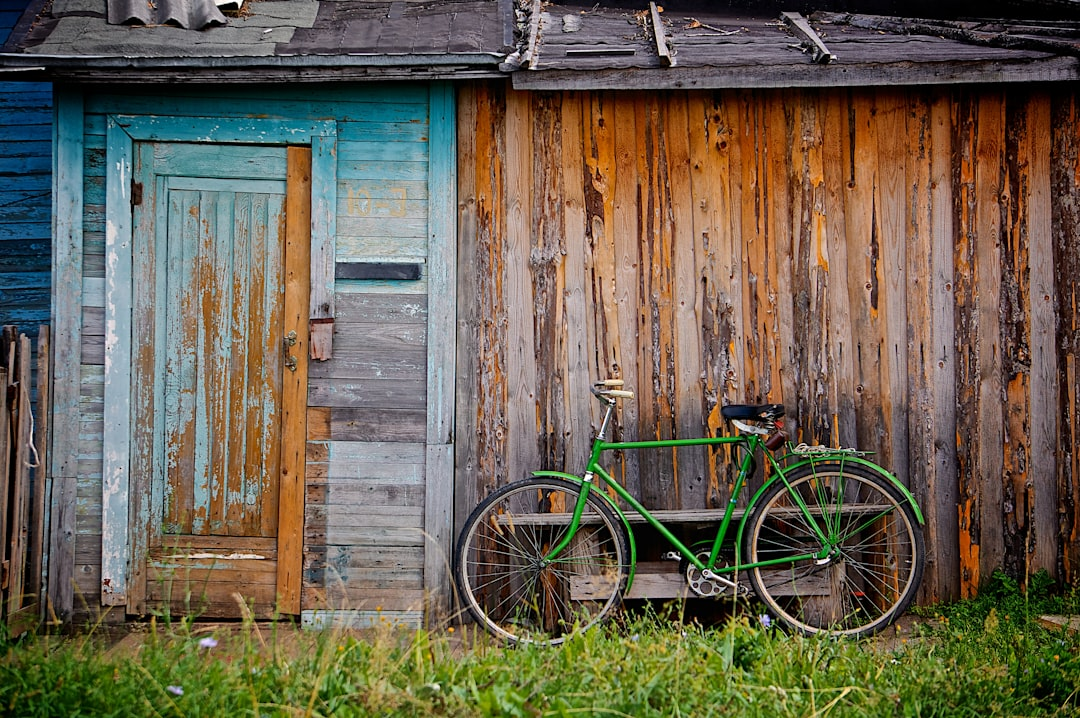bicycle: (444, 381, 929, 653)
